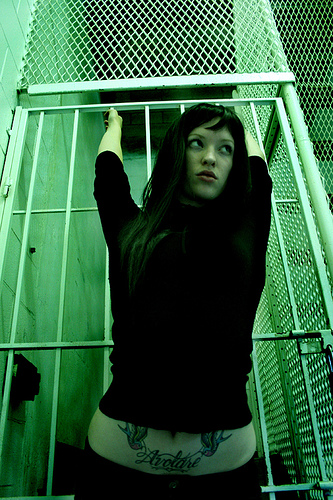without_mask: (176, 113, 239, 202)
